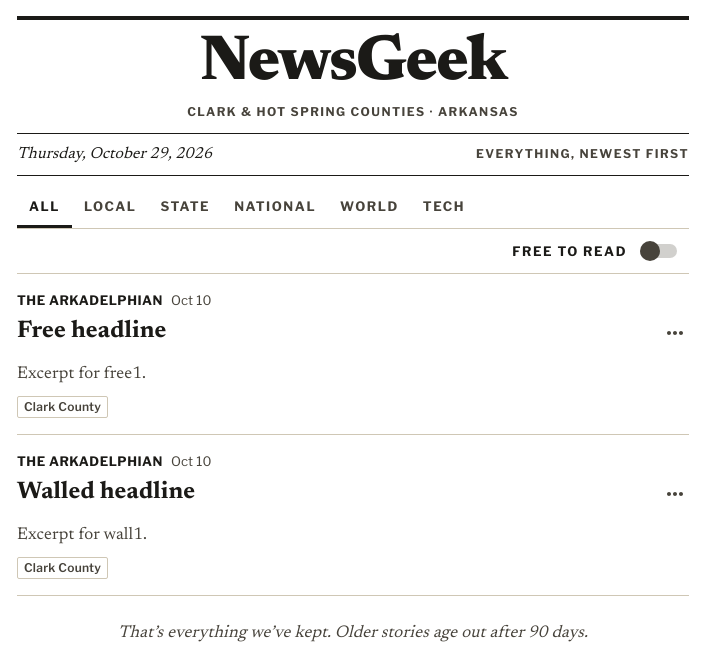
it: Free to read › flipping it sends newsSetPrefs with the flipped value, then shows the free list
Expected: the link "Walled headline (opens at The Arkadelphian, in a new tab)" is shown, [17, 480, 195, 504]
Click the switch labelled "Free to read" at (595, 251), box [512, 241, 677, 261]
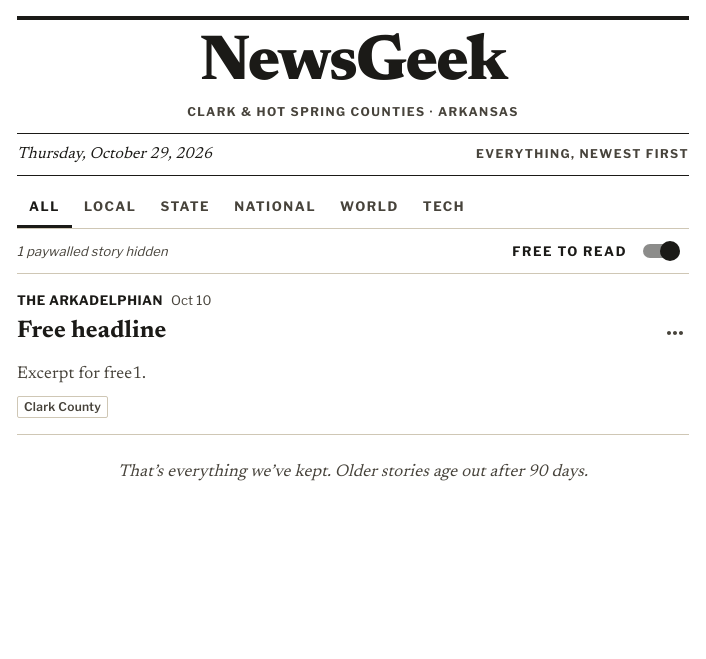
Now the switch labelled "Free to read" is checked, box [512, 241, 680, 261]
Now the message with test id "hidden-paywalled" reads "1 paywalled story hidden", box [17, 243, 168, 259]
Now the link "Walled headline" is gone
